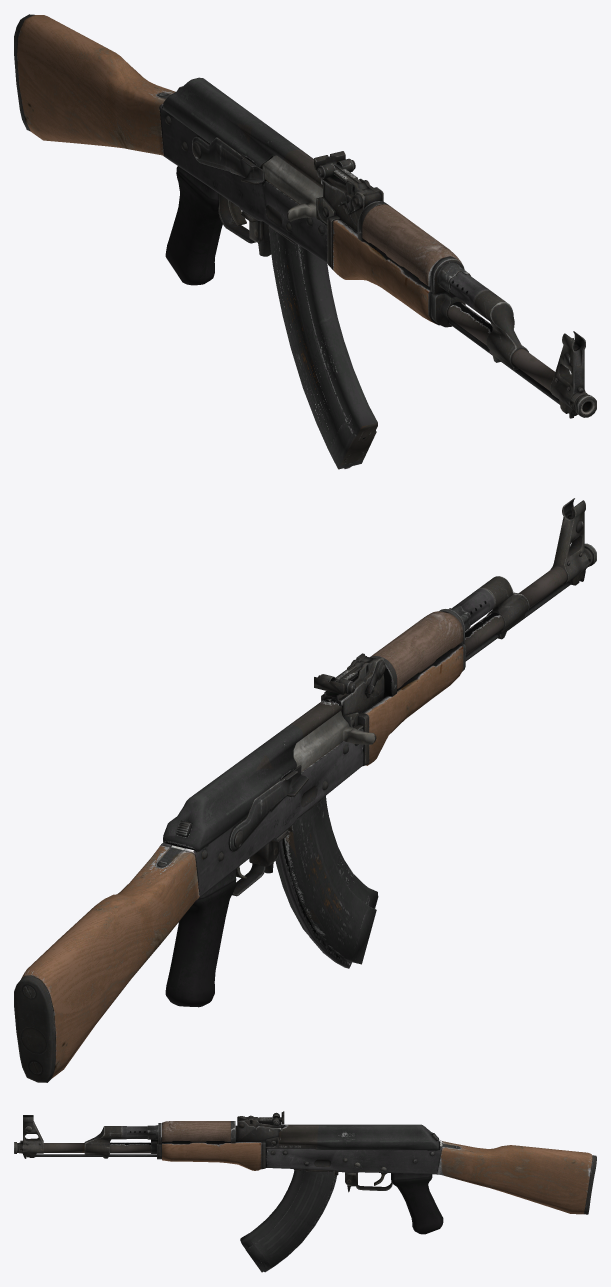
File: Weapons_AK47Classic_LOD0.glb
The picture shows the model from 3 angles, top to bottom: view 1: azimuth 30°, elevation 25°; view 2: azimuth 150°, elevation 25°; view 3: azimuth 270°, elevation 25°; orthographic projection. The views are drawn at different scales.
Visible parts, largest first — view 1: Hoodie; view 2: Hoodie; view 3: Hoodie.
Boxes of the visible parts, box(x1,y1,x2,y2) form: Hoodie: box(14, 14, 596, 469); Hoodie: box(14, 498, 596, 1082); Hoodie: box(14, 1111, 596, 1272).
Bounding box in the file's own units: 0.0573 × 0.2584 × 0.8701.
1 material, 1 textured.
